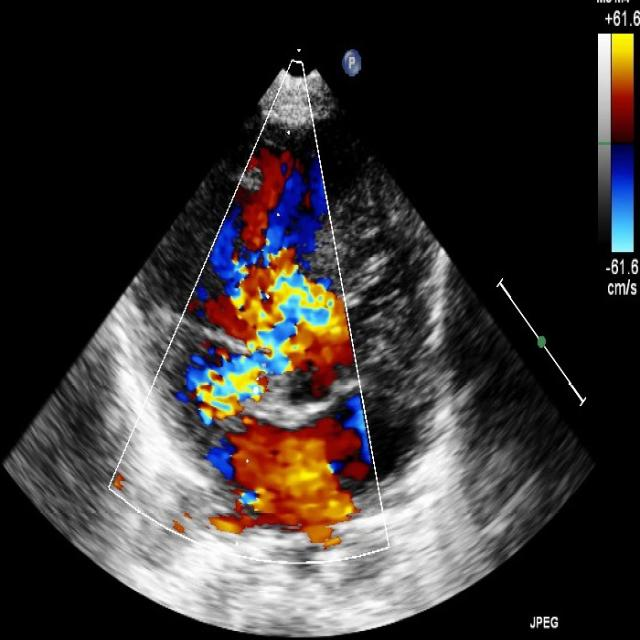VSDType2: (233, 253, 352, 388)
